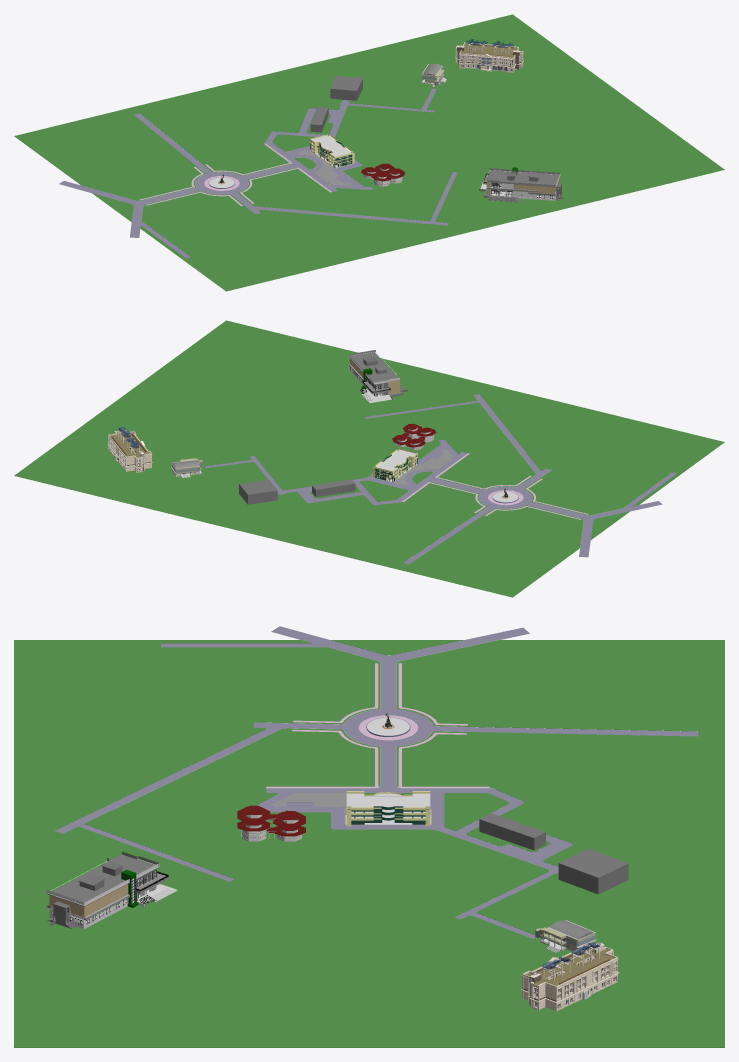
File: campus.glb
3 renders of one model, top to bottom at view 1: azimuth 30°, elevation 25°; view 2: azimuth 150°, elevation 25°; view 3: azimuth 270°, elevation 25°, orthographic. The views are drawn at different scales.
Parts seen in each view (by area): view 1: Grass, Road, AR_Bldg, Cube.014, Cube.007, Circle, Roof Deck, 2F Balcony, Cube; view 2: Grass, Road, Cube.014, AR_Bldg, Circle, Cube.007, Roof Deck, Cube; view 3: Grass, Road, Cube.014, AR_Bldg, Circle, Cube.007, Roof Deck, Cube.144, Cube, FootPathEdge.001, Cube.022, 2F Floorline (+1 smaller).
Boxes of the visible parts, left/top/right/bottom form: Grass: left=14, top=14, right=724, bottom=291; Road: left=59, top=88, right=457, bottom=258; AR_Bldg: left=455, top=39, right=523, bottom=72; Cube.014: left=310, top=75, right=564, bottom=202; Cube.007: left=314, top=64, right=560, bottom=200; Circle: left=361, top=163, right=404, bottom=186; Roof Deck: left=487, top=170, right=558, bottom=184; 2F Balcony: left=483, top=168, right=560, bottom=192; Cube: left=309, top=134, right=354, bottom=166; Grass: left=14, top=320, right=724, bottom=597; Road: left=204, top=394, right=676, bottom=564; Cube.014: left=239, top=356, right=408, bottom=504; AR_Bldg: left=107, top=427, right=152, bottom=472; Circle: left=392, top=423, right=436, bottom=450; Cube.007: left=171, top=351, right=413, bottom=477; Roof Deck: left=351, top=352, right=398, bottom=382; Cube: left=373, top=449, right=417, bottom=480; Grass: left=14, top=640, right=724, bottom=1047; Road: left=55, top=626, right=698, bottom=938; Cube.014: left=46, top=813, right=628, bottom=928; AR_Bldg: left=521, top=942, right=619, bottom=1011; Circle: left=237, top=805, right=305, bottom=841; Cube.007: left=46, top=796, right=596, bottom=952; Roof Deck: left=52, top=854, right=154, bottom=902; Cube.144: left=346, top=793, right=430, bottom=807; Cube: left=346, top=791, right=430, bottom=826; FootPathEdge.001: left=113, top=639, right=501, bottom=809; Cube.022: left=348, top=806, right=428, bottom=824; 2F Floorline: left=49, top=884, right=128, bottom=917.
Size of the model in its own units: 540 by 23.51 by 384.
68 materials, 8 textured.
